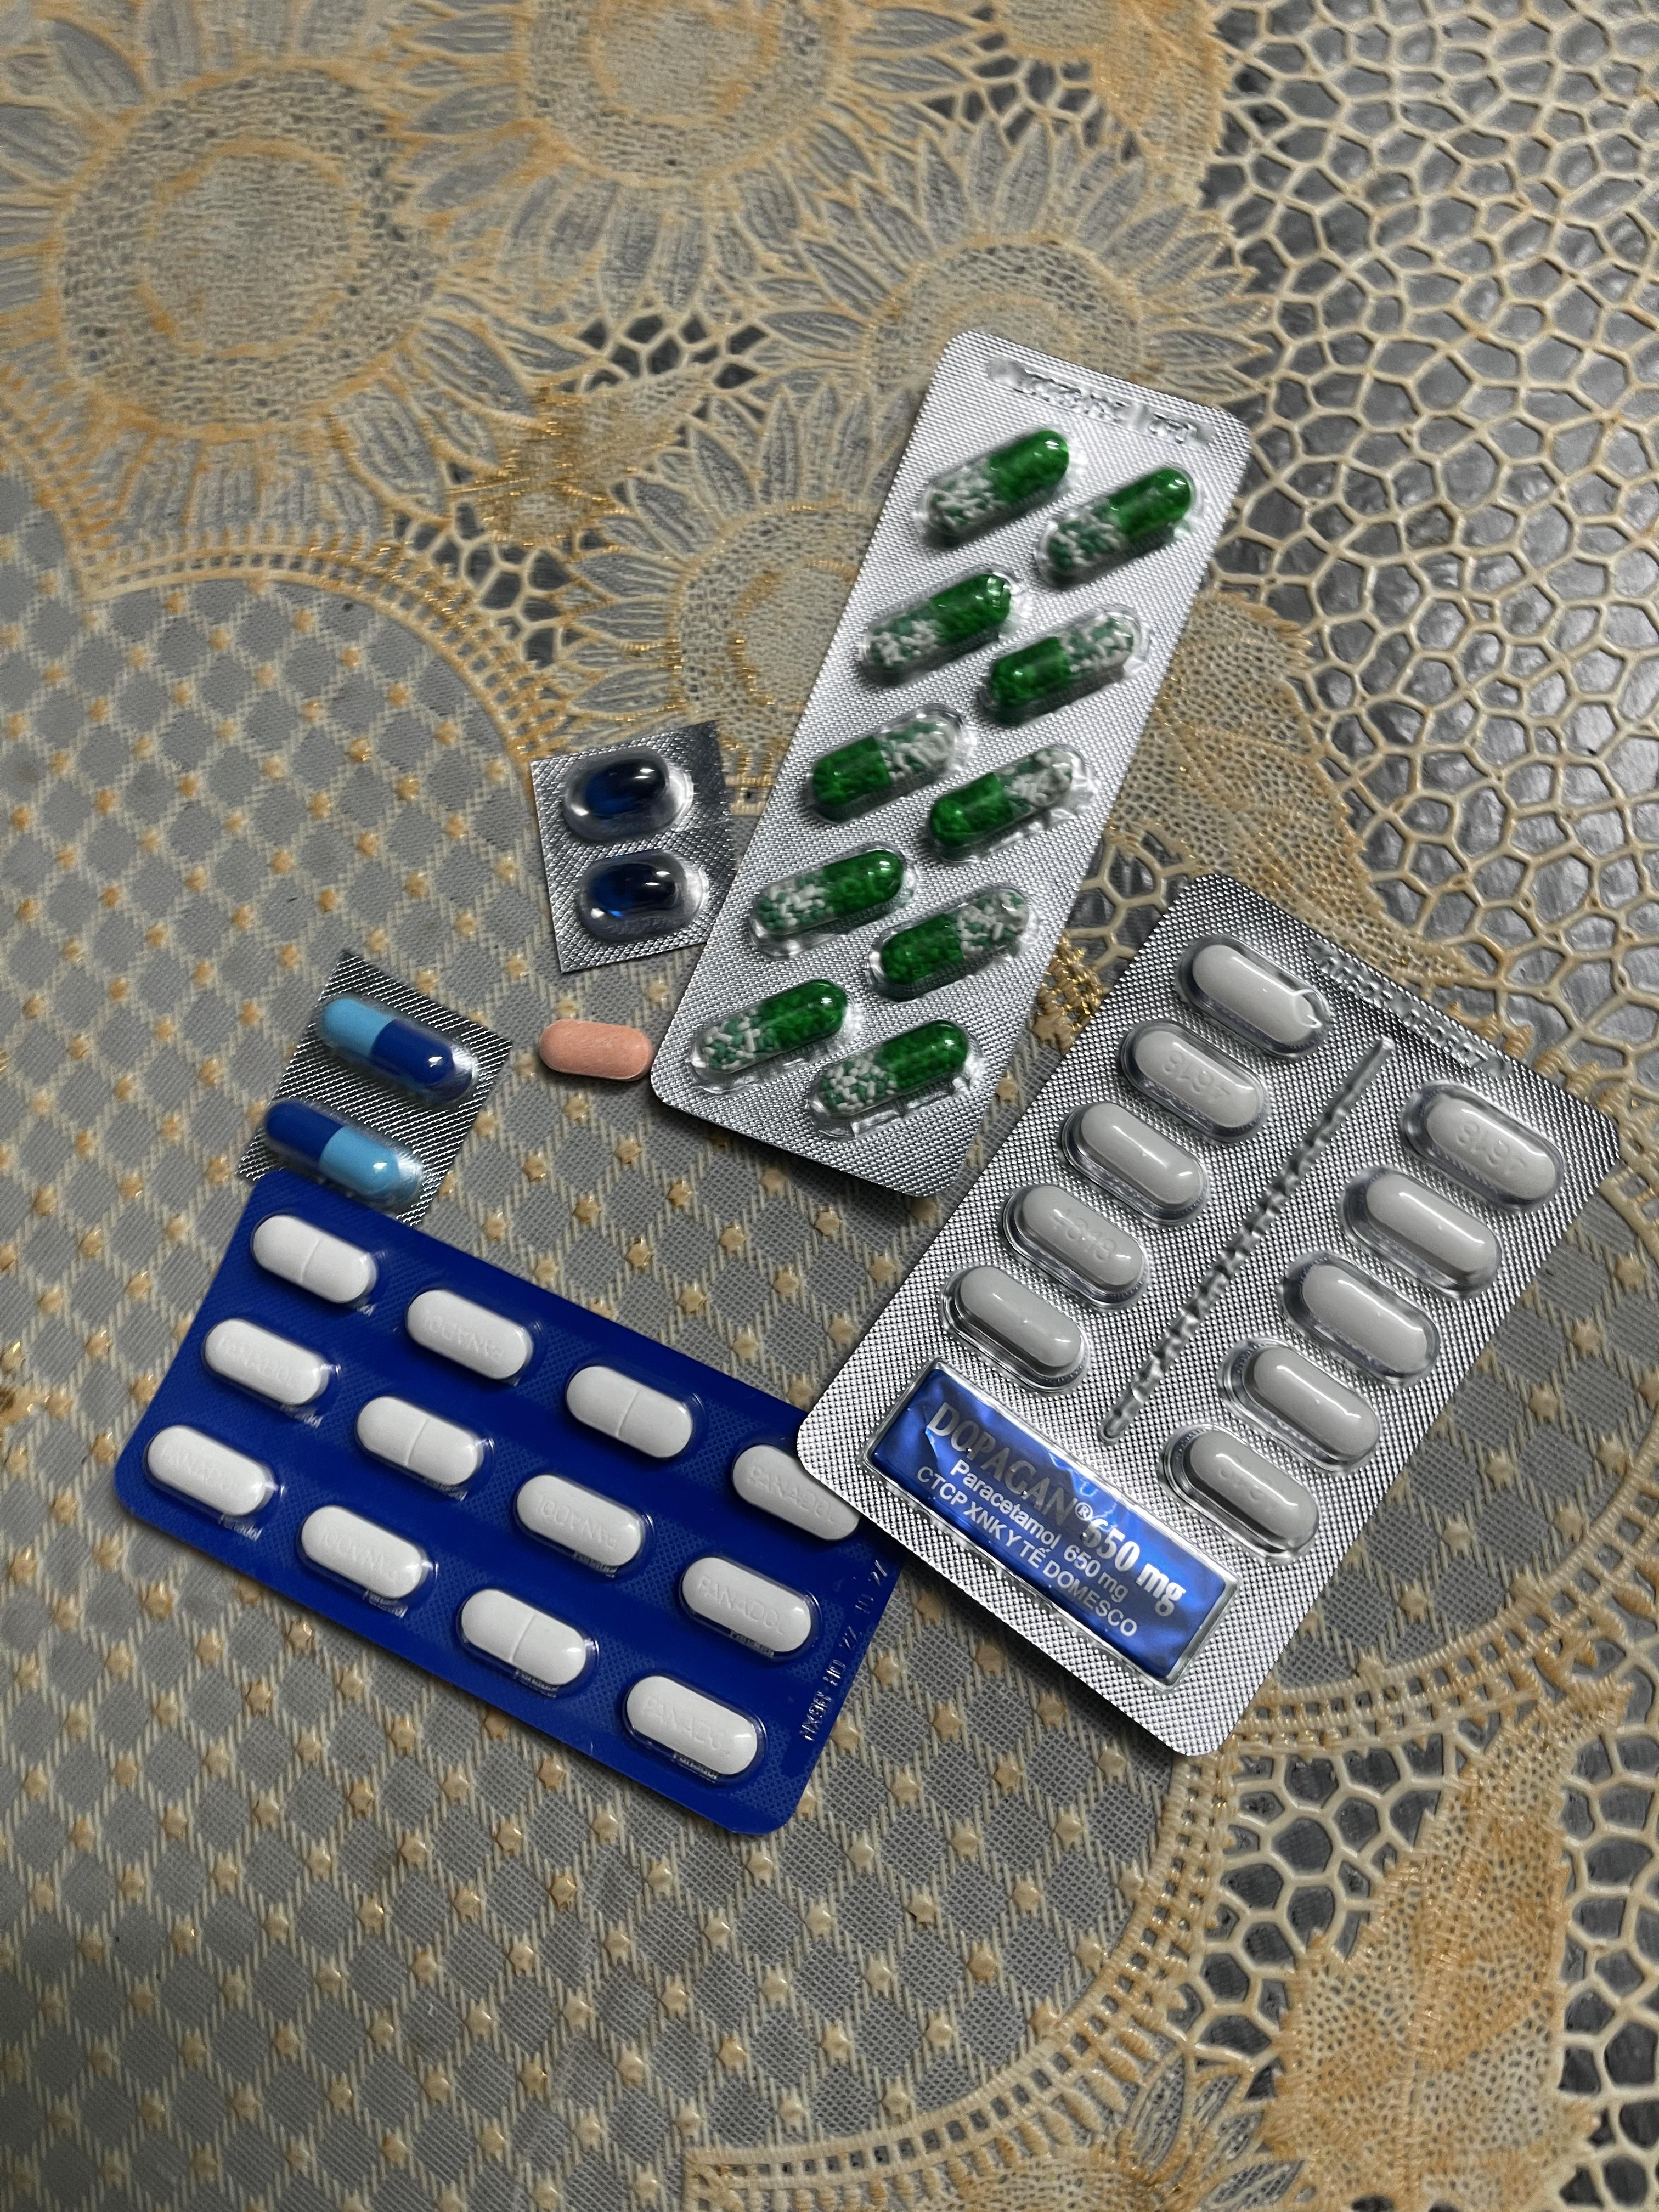Lincomyxin_500mg: (582, 759, 669, 819), (587, 860, 678, 916)
Loratadine_10mg: (537, 1019, 657, 1083)
Paracetamol_350mg: (620, 1674, 762, 1782), (680, 1555, 819, 1660), (514, 1472, 647, 1575), (460, 1587, 592, 1689), (298, 1505, 430, 1606), (730, 1444, 857, 1543), (145, 1425, 272, 1521), (406, 1289, 533, 1381), (566, 1367, 694, 1460), (357, 1397, 483, 1489), (204, 1318, 329, 1409), (253, 1214, 378, 1301)
Paracetamol_500mg: (1276, 1252, 1441, 1392), (1218, 1341, 1378, 1475), (1403, 1083, 1568, 1212), (1344, 1167, 1506, 1298), (939, 1261, 1089, 1390), (1162, 1423, 1312, 1552), (999, 1177, 1143, 1305), (1061, 1097, 1208, 1221), (1176, 930, 1316, 1050), (1136, 1028, 1256, 1130)
Paracetamol_650mg: (809, 700, 978, 815), (931, 735, 1098, 848), (918, 425, 1075, 545), (857, 573, 1014, 690), (979, 606, 1140, 719), (864, 885, 1025, 998), (1042, 467, 1195, 583), (814, 1019, 971, 1122), (697, 974, 854, 1071), (751, 848, 908, 944)
pill: (314, 996, 479, 1103), (265, 1106, 427, 1205)
